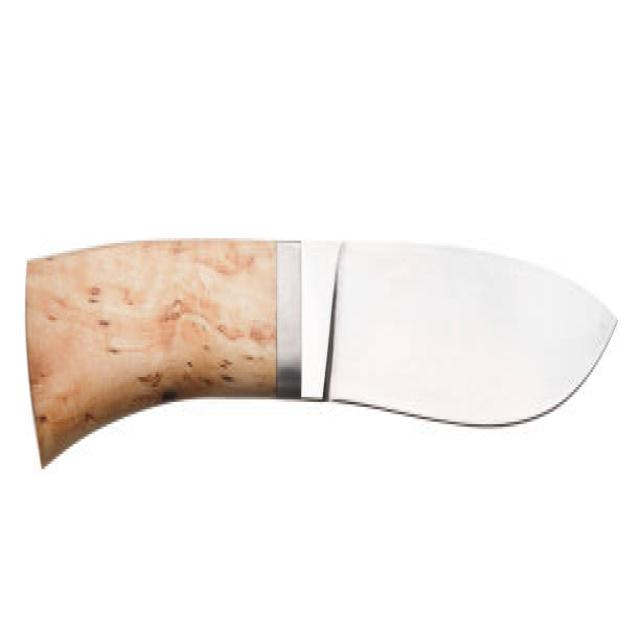knife: (20, 230, 624, 472)
